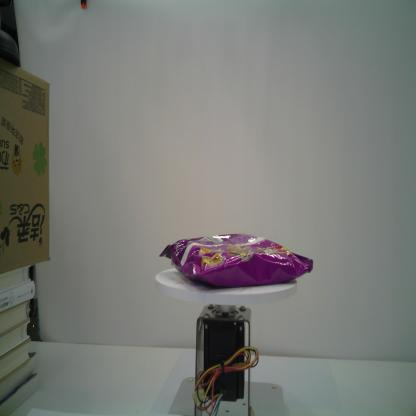Instant Noodles: (158, 233, 313, 290)
